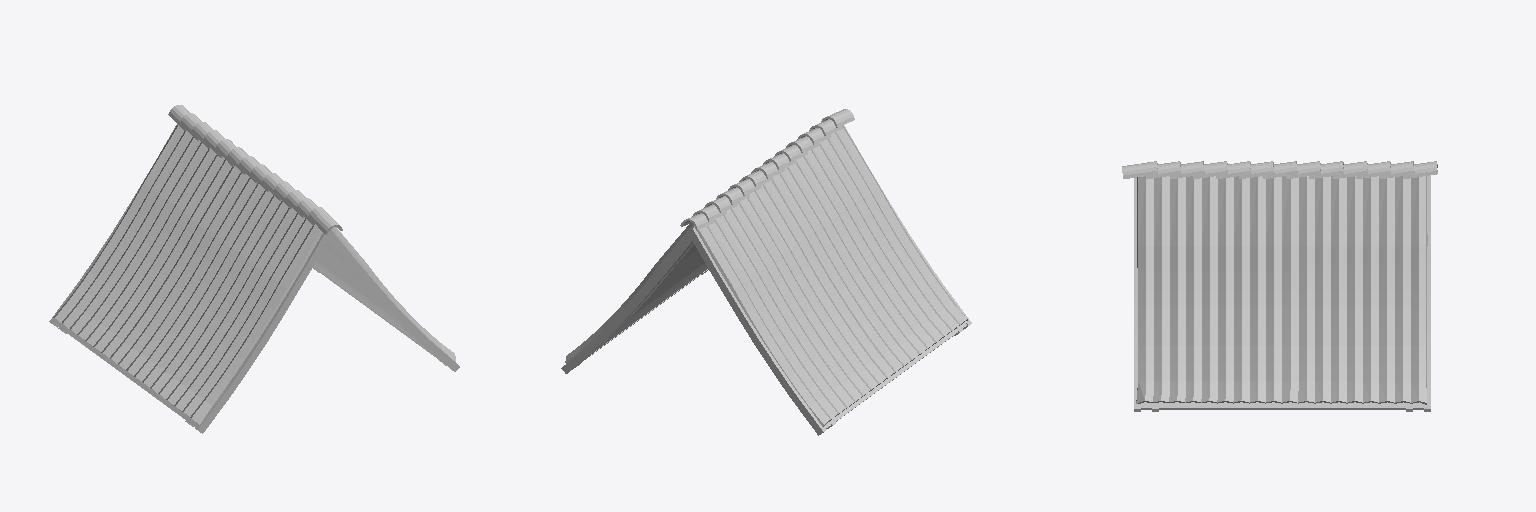
Rendered from Roof_RoundTiles_8x8.obj.
The picture shows the model from 3 angles: view 1: azimuth 30°, elevation 25°; view 2: azimuth 150°, elevation 25°; view 3: azimuth 270°, elevation 25°; orthographic projection.
Parts seen in each view (by area): view 1: Roof_RoundTiles_8x8; view 2: Roof_RoundTiles_8x8; view 3: Roof_RoundTiles_8x8.
Part boxes in pixels (x1,y1,x2,y2): Roof_RoundTiles_8x8: (49, 105, 459, 433); Roof_RoundTiles_8x8: (561, 109, 971, 435); Roof_RoundTiles_8x8: (1122, 161, 1437, 411).
Bounding box in the file's own units: 9.95 × 6.78 × 10.33.